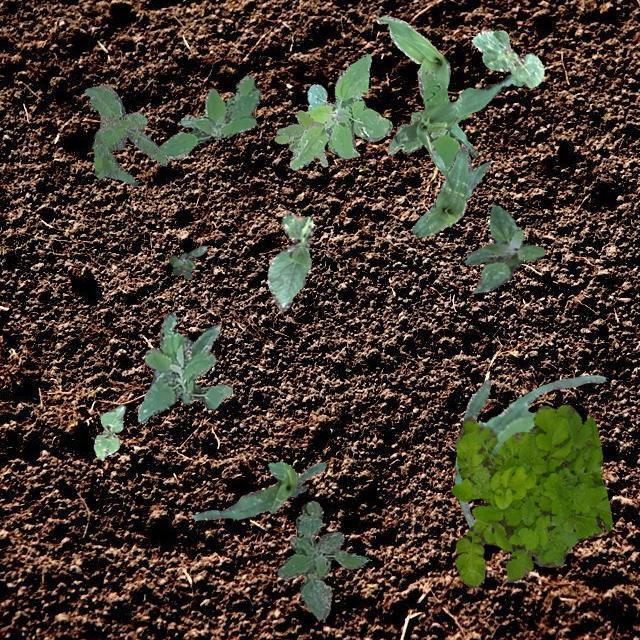crop: (454, 374, 604, 528), (377, 15, 478, 156), (392, 72, 514, 170), (192, 462, 326, 518), (411, 147, 489, 236), (266, 210, 312, 310), (472, 28, 542, 86), (92, 404, 124, 459)
weed: (450, 404, 612, 586), (288, 53, 392, 168), (276, 500, 368, 620), (136, 312, 232, 422), (387, 68, 469, 176), (158, 74, 260, 158), (84, 82, 165, 186), (464, 204, 544, 292), (274, 108, 358, 166), (168, 245, 205, 278)
